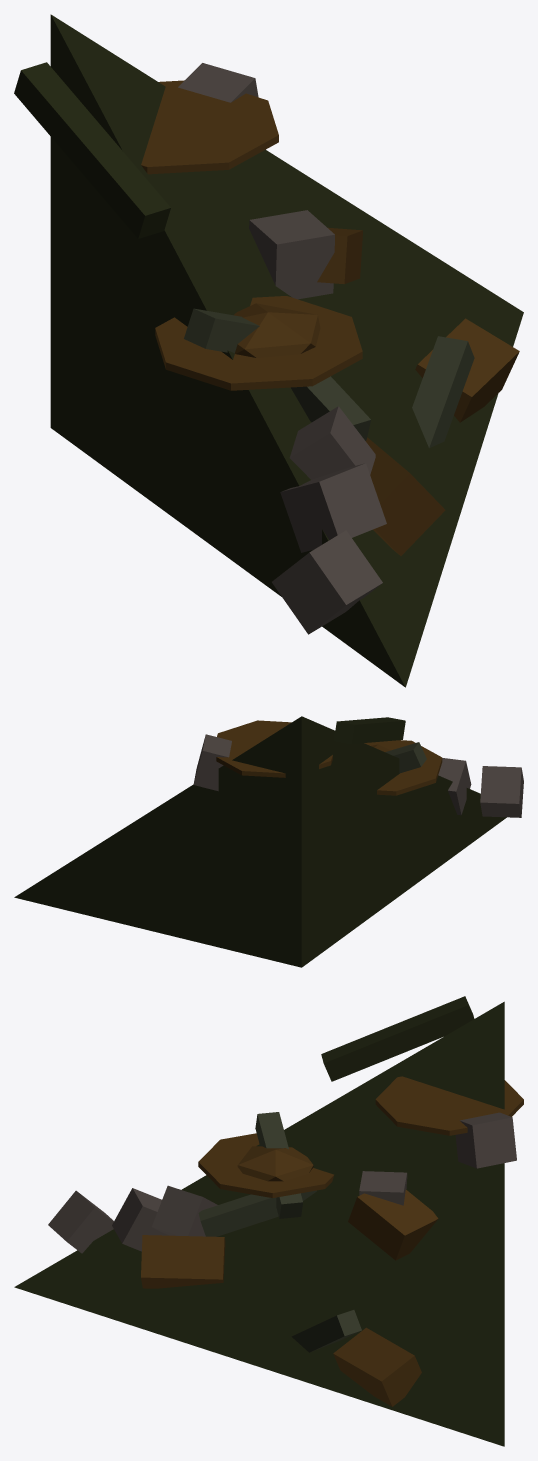
Rendered from SM_PilaZombi_RemateDer_Altura3_s2_LOD1.fbx.
3 renders of one model, top to bottom at view 1: azimuth 30°, elevation 25°; view 2: azimuth 150°, elevation 25°; view 3: azimuth 270°, elevation 25°, orthographic. The views are drawn at different scales.
Parts seen in each view (by area): view 1: SM_pila_zombis_v12_LOD1; view 2: SM_pila_zombis_v12_LOD1; view 3: SM_pila_zombis_v12_LOD1.
Part boxes in pixels (left/top/right/bottom): SM_pila_zombis_v12_LOD1: left=14, top=14, right=523, bottom=687; SM_pila_zombis_v12_LOD1: left=14, top=716, right=523, bottom=967; SM_pila_zombis_v12_LOD1: left=14, top=996, right=523, bottom=1446.
Bounding box in the file's own units: 2.33 × 1.7 × 2.75.
